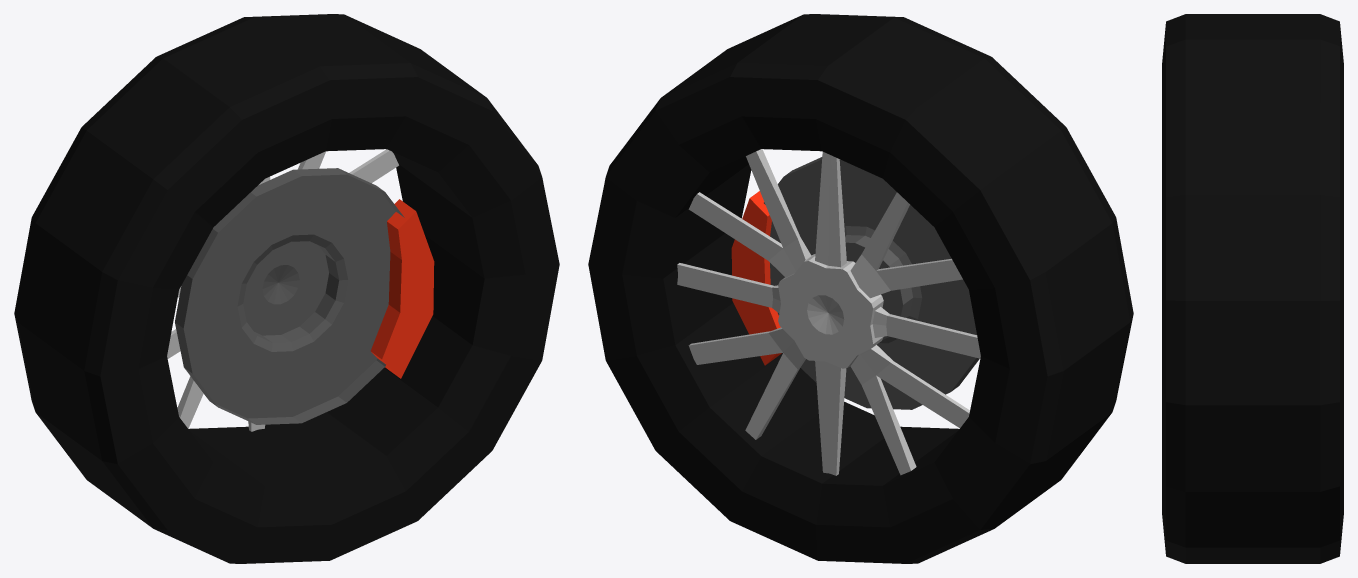
File: tire_narrow.glb
3 views of the same model, side by side, from view 1: azimuth 30°, elevation 25°; view 2: azimuth 150°, elevation 25°; view 3: azimuth 270°, elevation 25° (orthographic).
Visible parts, largest first — view 1: tires, brake_disc, brake, rims; view 2: tires, rims, brake_disc, brake; view 3: tires.
Boxes of the visible parts, box(x1,y1,x2,y2) form: tires: box(14, 14, 559, 563); brake_disc: box(175, 168, 404, 424); brake: box(370, 199, 434, 378); rims: box(167, 149, 398, 431); tires: box(588, 14, 1133, 563); rims: box(677, 149, 980, 475); brake_disc: box(764, 157, 979, 409); brake: box(731, 191, 781, 365); tires: box(1162, 14, 1343, 563).
Bounding box in the file's own units: 0.6307 × 0.6307 × 0.2082.
